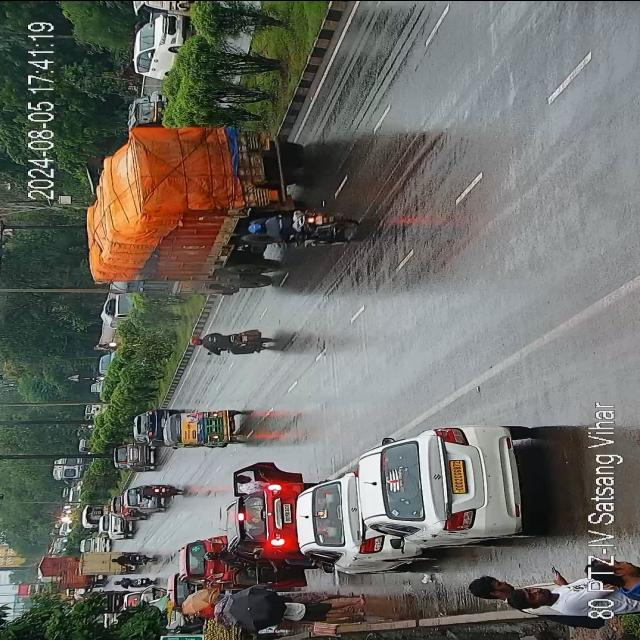2-wheelers: (189, 322, 271, 366), (247, 208, 325, 248), (200, 540, 256, 568), (134, 482, 180, 502), (114, 548, 154, 570), (112, 578, 155, 586)
auto: (165, 410, 247, 448)
car: (366, 425, 532, 549), (295, 475, 405, 571), (226, 461, 302, 548), (165, 534, 230, 598), (122, 440, 156, 470), (133, 408, 159, 443), (98, 512, 129, 538), (80, 536, 108, 552)
pedestrian: (464, 564, 566, 614), (268, 585, 368, 620), (591, 556, 640, 587), (178, 602, 228, 618)
truck: (85, 114, 304, 296), (36, 558, 94, 590), (78, 548, 140, 577), (100, 290, 130, 342), (51, 453, 88, 481), (82, 503, 104, 528)
